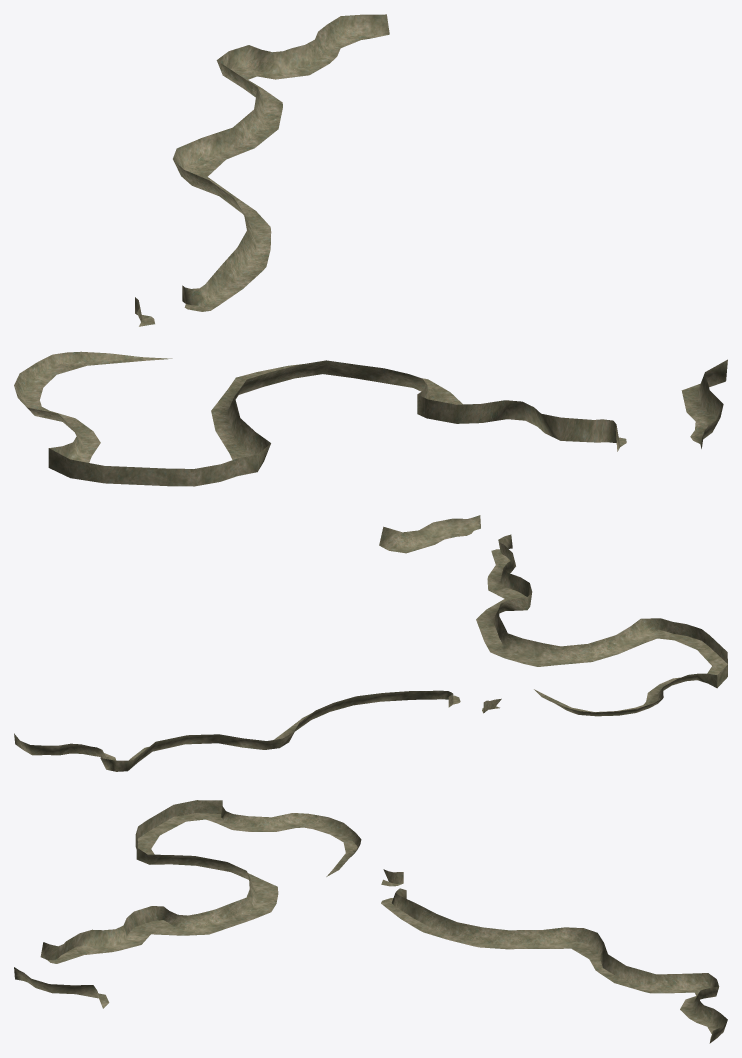
Rendered from EKH_GROTTO_PS_GR_OBJECT21.fbx.
The picture shows the model from 3 angles, top to bottom: view 1: azimuth 30°, elevation 25°; view 2: azimuth 150°, elevation 25°; view 3: azimuth 270°, elevation 25°; orthographic projection. The views are drawn at different scales.
Parts seen in each view (by area): view 1: EKH_GROTTO_PS_GR_OBJECT21; view 2: EKH_GROTTO_PS_GR_OBJECT21; view 3: EKH_GROTTO_PS_GR_OBJECT21.
Boxes of the visible parts, box(x1,y1,x2,y2) form: EKH_GROTTO_PS_GR_OBJECT21: box(14, 14, 727, 486); EKH_GROTTO_PS_GR_OBJECT21: box(14, 515, 727, 771); EKH_GROTTO_PS_GR_OBJECT21: box(14, 800, 727, 1043).
Bounding box in the file's own units: 280515 × 12097 × 362221.
Materials: 1 (1 with a texture image).
